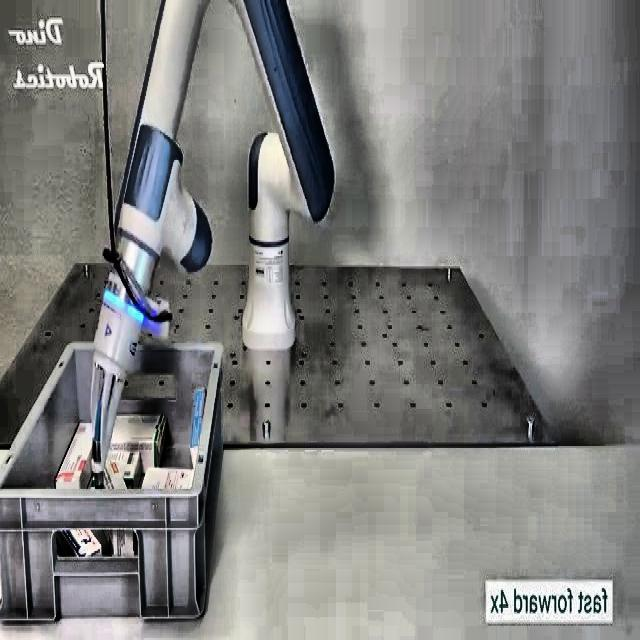robot: (87, 0, 336, 487)
